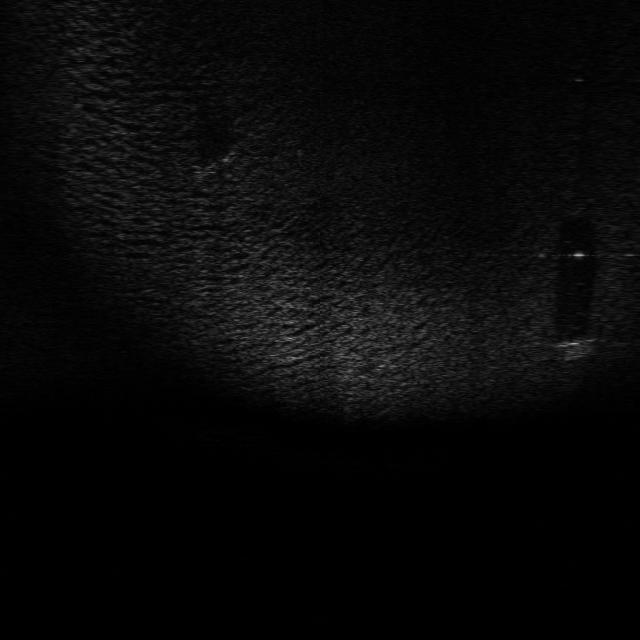cube: (550, 332, 596, 364)
plane: (187, 146, 238, 186)
